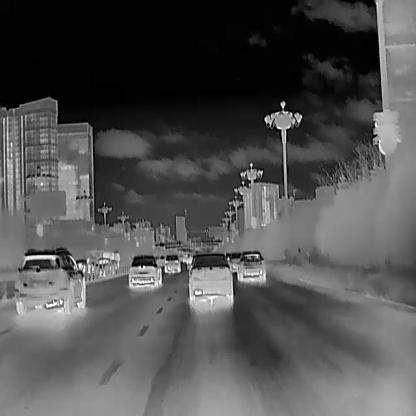car: (15, 246, 85, 313), (189, 255, 232, 306), (128, 254, 161, 288), (235, 249, 266, 282), (226, 250, 247, 270), (95, 258, 112, 276), (165, 253, 180, 273)
